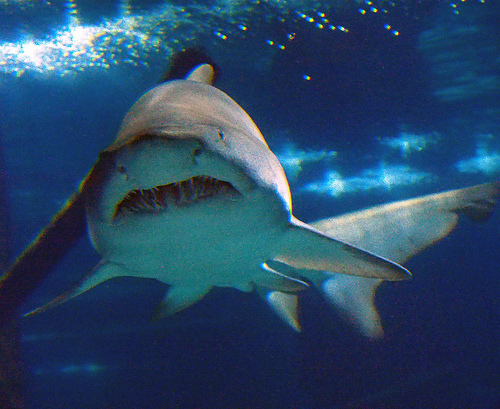shark: (18, 48, 494, 364)
